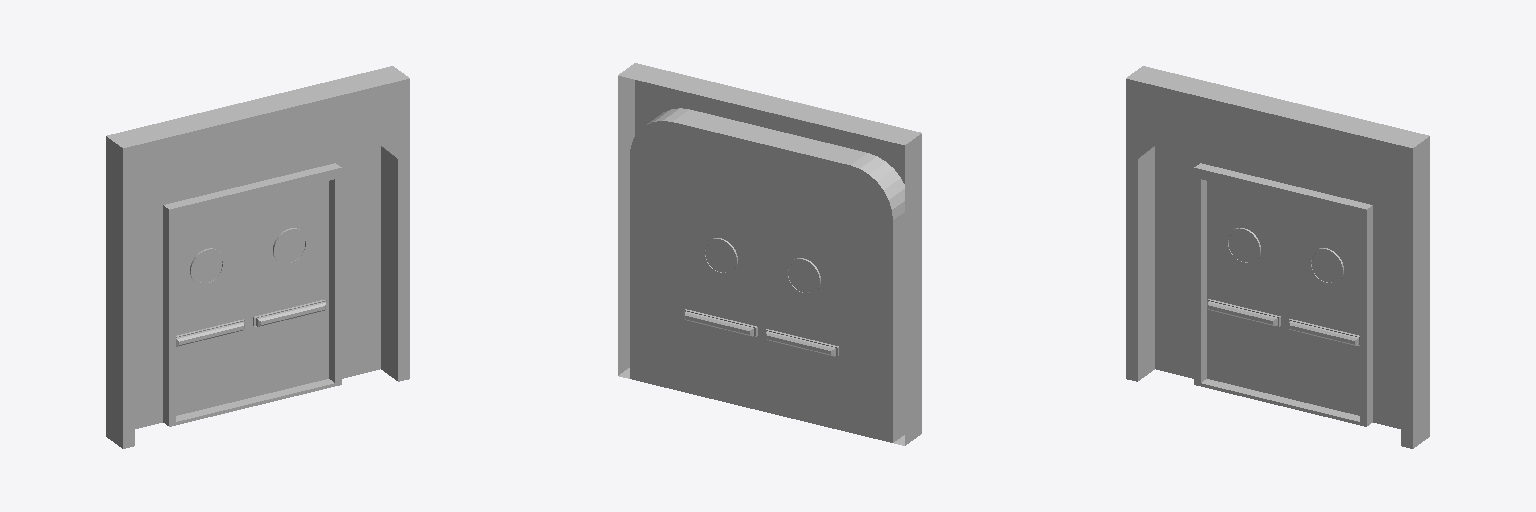
Rendered from kitchen door1.obj.
3 renders of one model, left to right at view 1: azimuth 30°, elevation 25°; view 2: azimuth 150°, elevation 25°; view 3: azimuth 330°, elevation 25°, orthographic.
Visible parts, largest first — view 1: wall_Plane, wall.003_Plane.006, wall.004_Plane.004; view 2: wall_Plane, wall.004_Plane.004, wall.003_Plane.006; view 3: wall_Plane, wall.004_Plane.004, wall.003_Plane.006.
Part boxes in pixels (left/top/right/bottom): wall_Plane: left=106, top=66, right=409, bottom=448; wall.003_Plane.006: left=248, top=181, right=328, bottom=397; wall.004_Plane.004: left=176, top=201, right=248, bottom=415; wall_Plane: left=618, top=63, right=921, bottom=445; wall.004_Plane.004: left=762, top=204, right=843, bottom=427; wall.003_Plane.006: left=681, top=184, right=762, bottom=407; wall_Plane: left=1126, top=66, right=1429, bottom=448; wall.004_Plane.004: left=1207, top=181, right=1285, bottom=397; wall.003_Plane.006: left=1285, top=200, right=1359, bottom=415.
Bounding box in the file's own units: 6.37 × 6.37 × 0.8187.